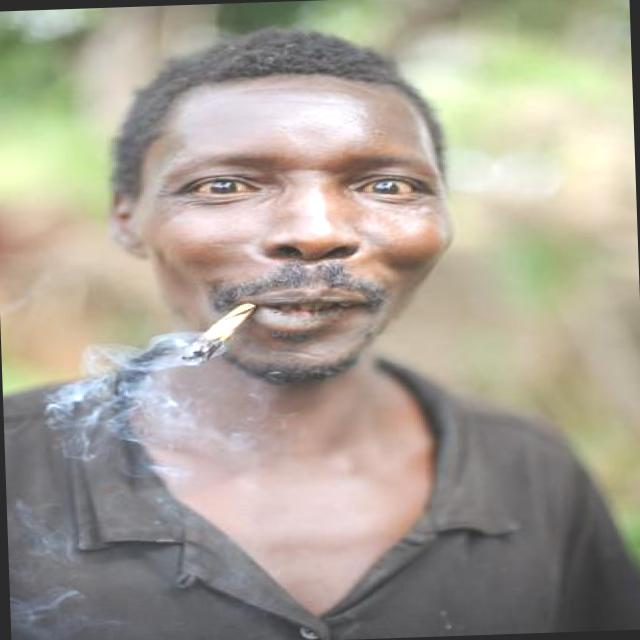cigarette: (159, 293, 273, 367)
